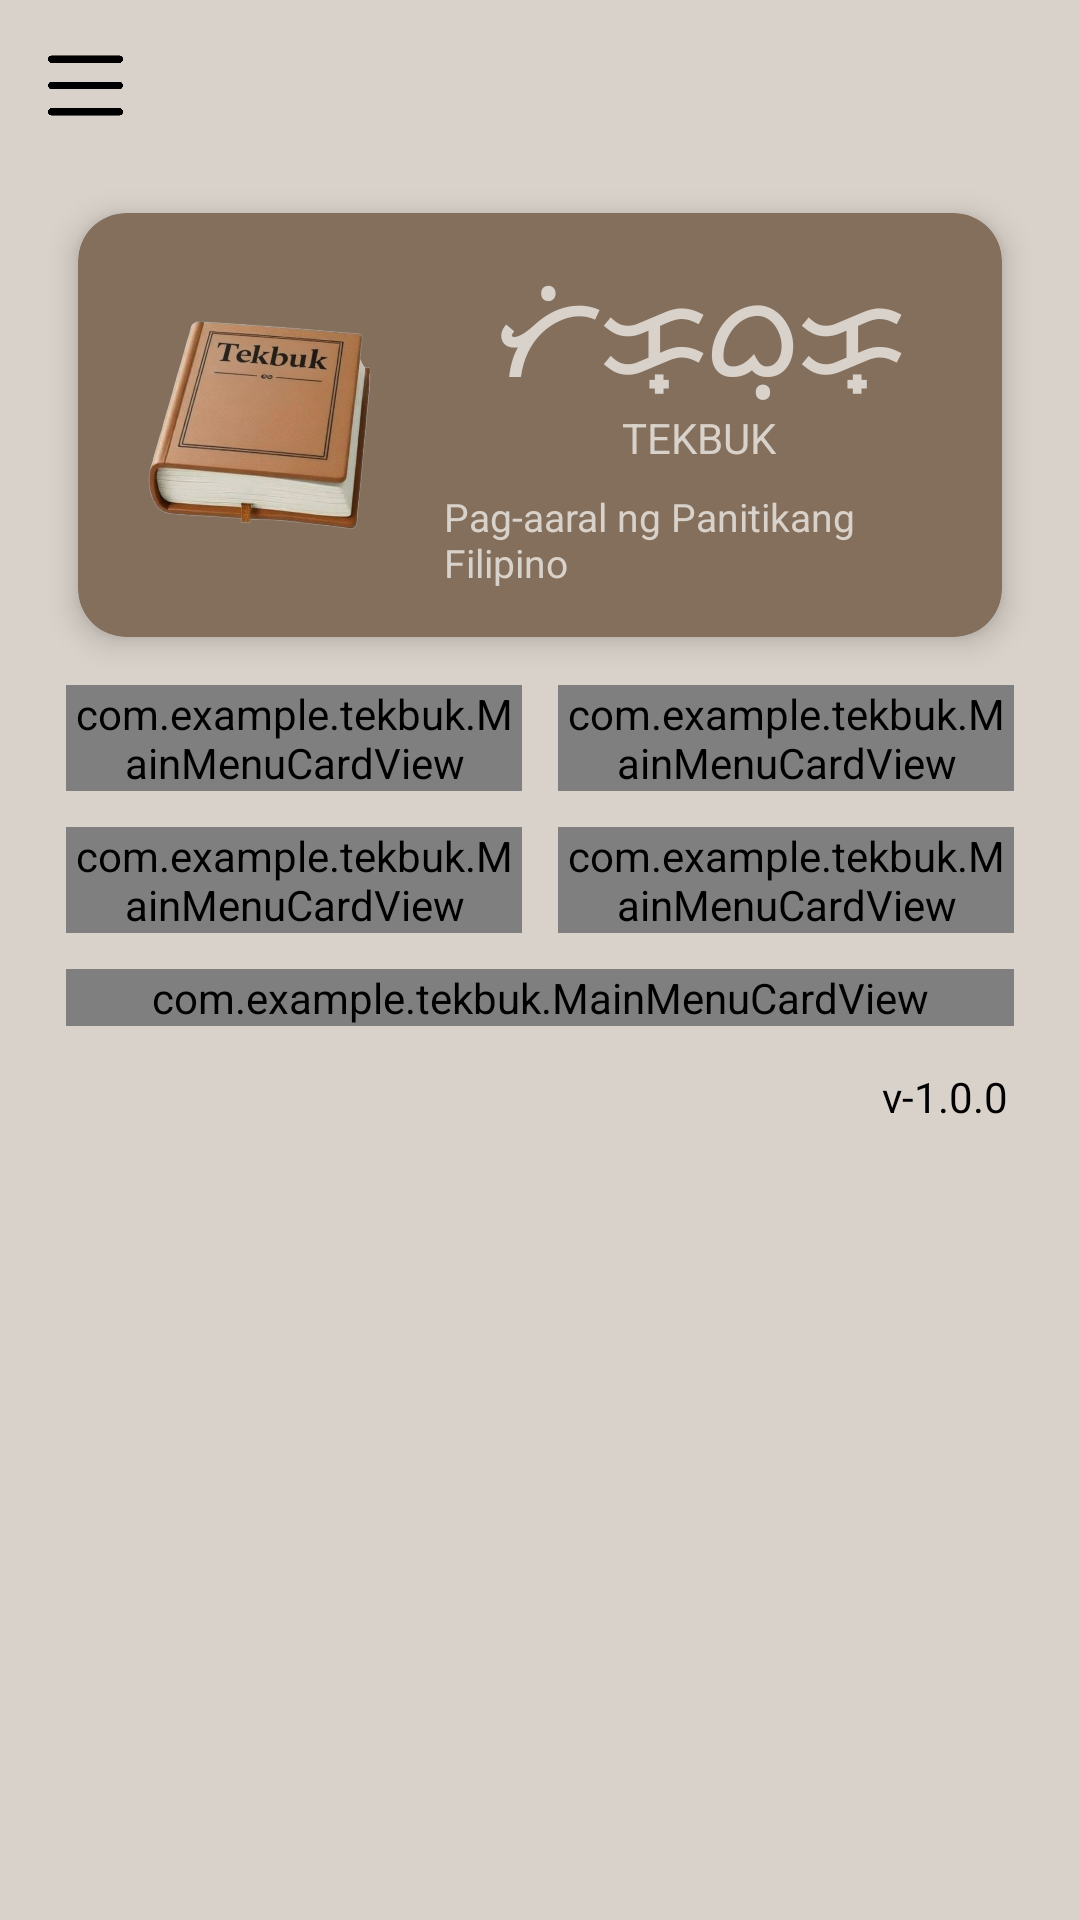

Locate icon controls on the screen. Image size 1080×1920, boxes as (x1=x1, y1=y1, x2=x2, y2=y2).
Menu: (x1=48, y1=55, x2=123, y2=116)
